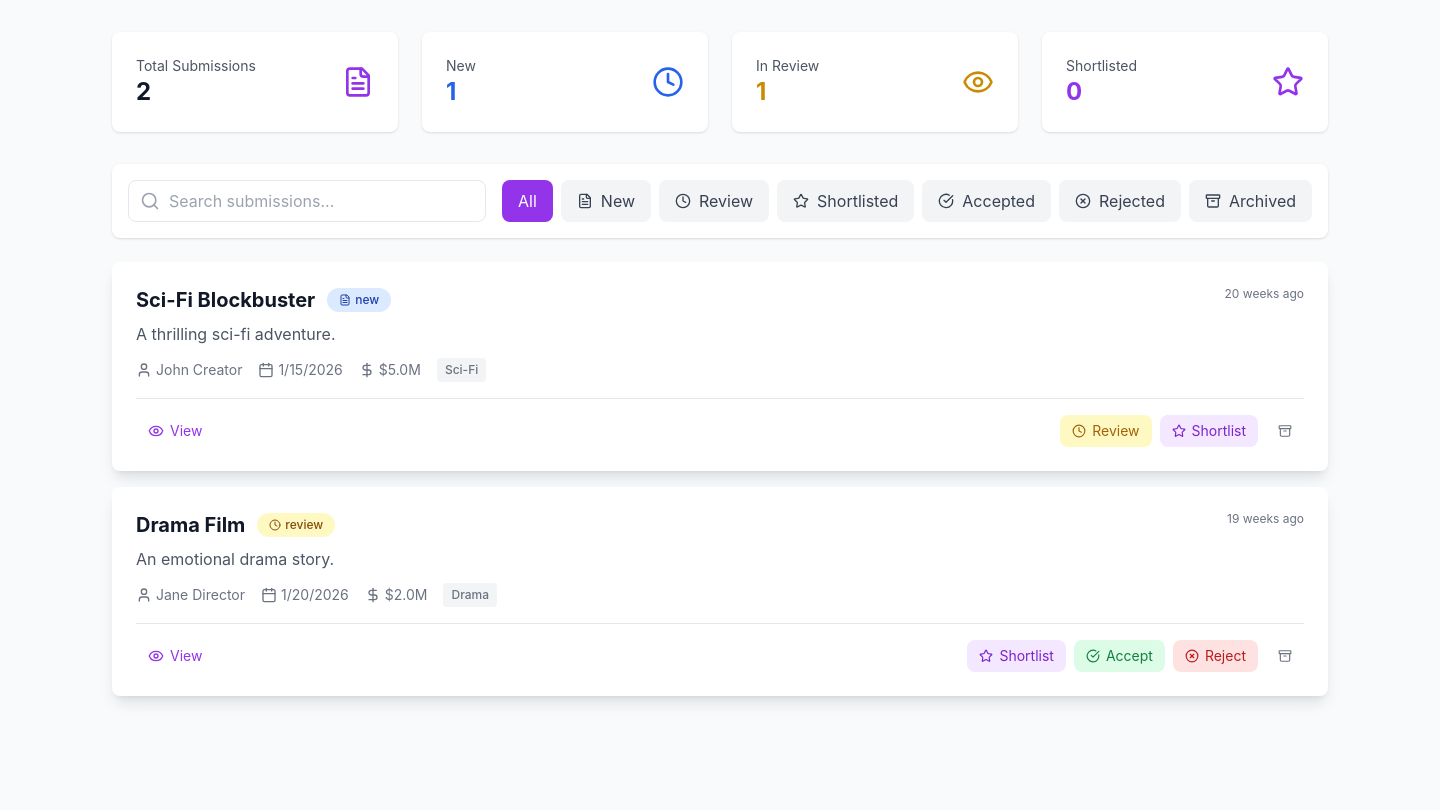
Scenario: ProductionSubmissions › filters submissions by search term
Expected: the heading "Sci-Fi Blockbuster" is shown, [136,286,315,314]
Step 1. Type "Drama" into the field with placeholder "Search submissions..." → (307, 201), box [128,180,486,222]
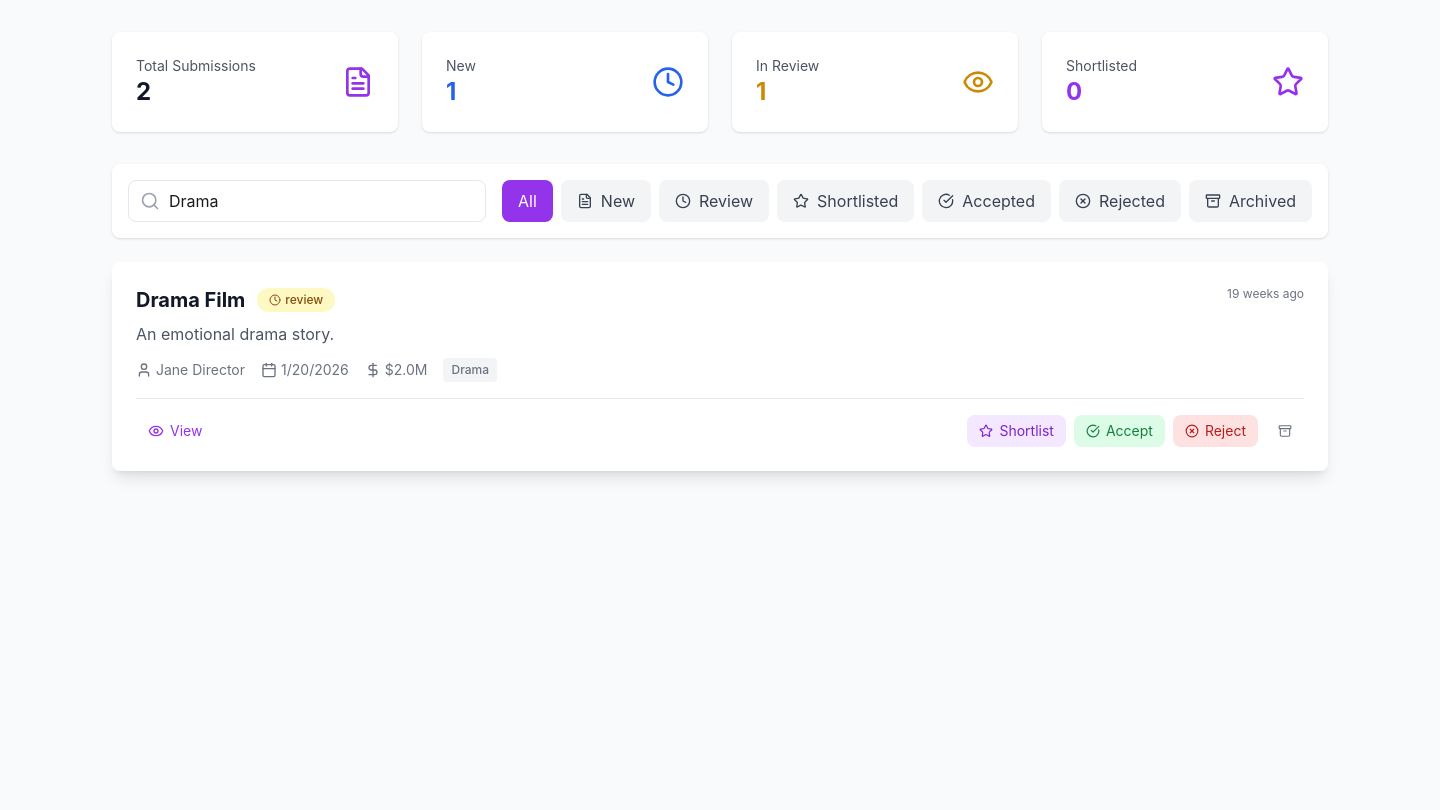
Expected: the heading "Drama Film" is shown, [136,286,245,314]
Expected: the heading "Sci-Fi Blockbuster" is gone
